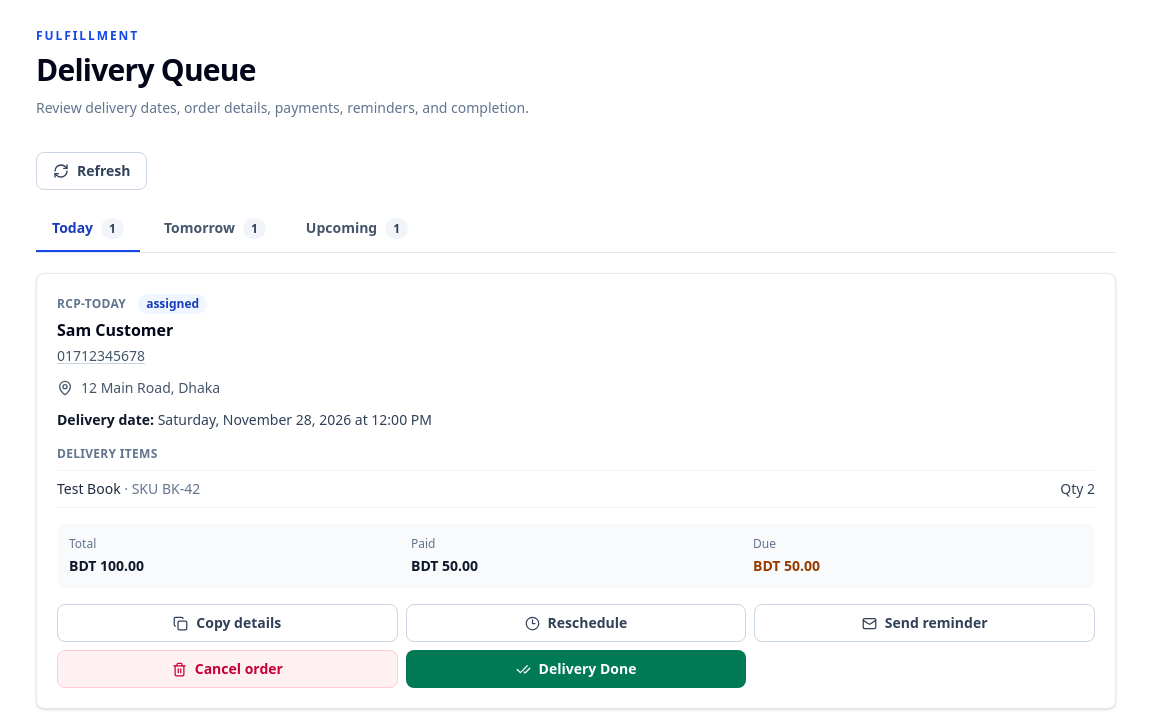
Test: Admin Delivery workflow › previews and sends reminder through email-only action, and closes on Escape
Expected: the text "RCP-TODAY" is shown, [57,296,126,312]
Click the button "Send reminder": (925, 623) [754,604,1095,642]
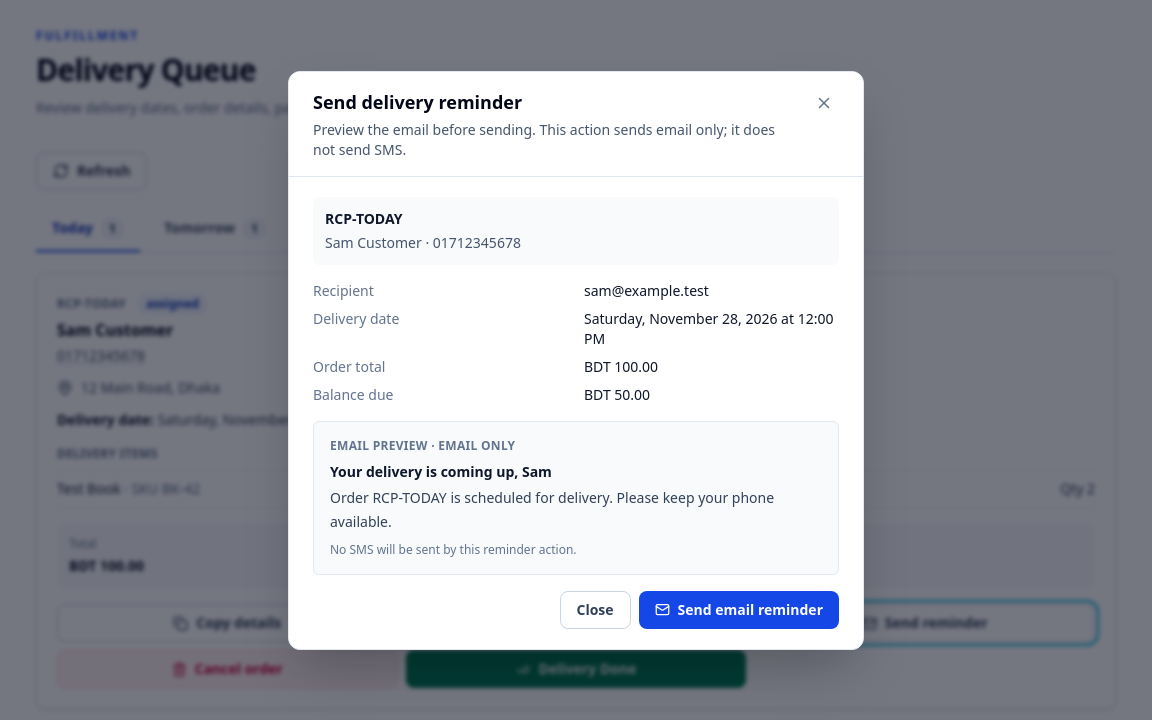
Expected: the text "sam@example.test" is shown, [584,280,709,300]
Expected: the text "Email preview · Email only" is shown, [330,436,515,454]
Press Escape
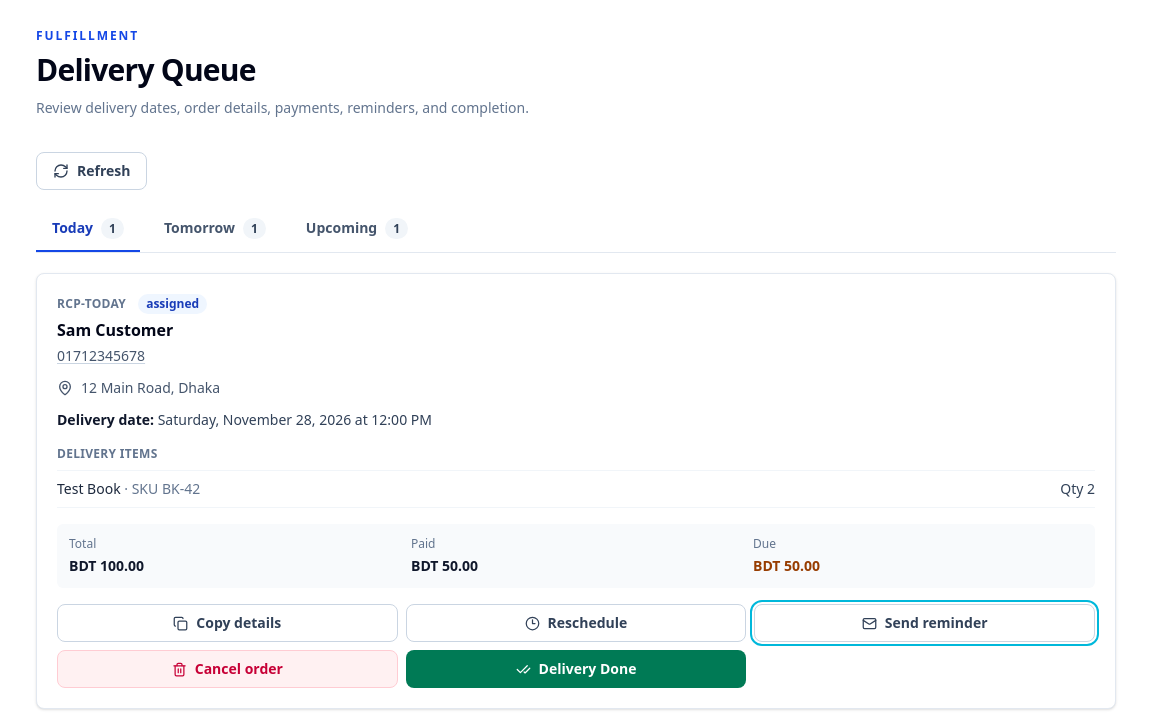
Expected: the dialog is gone
Click the button "Send reminder": (925, 623) [754,604,1095,642]
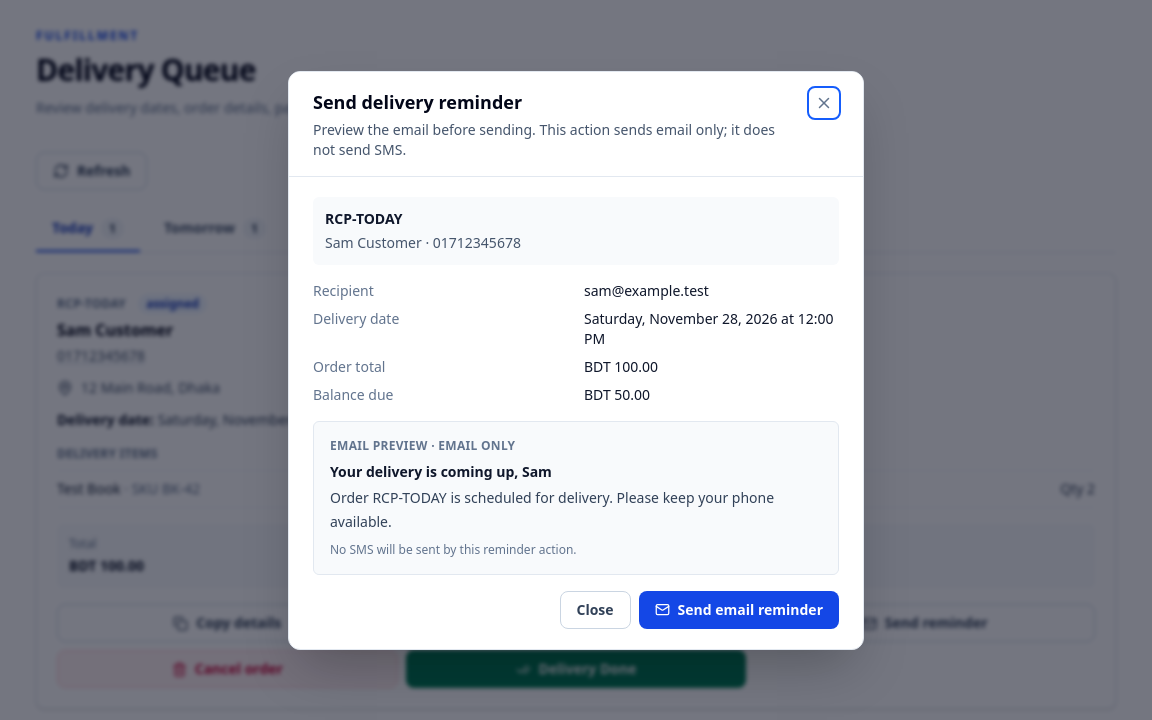
Click the button "Send email reminder": (739, 610) [639,590,839,628]
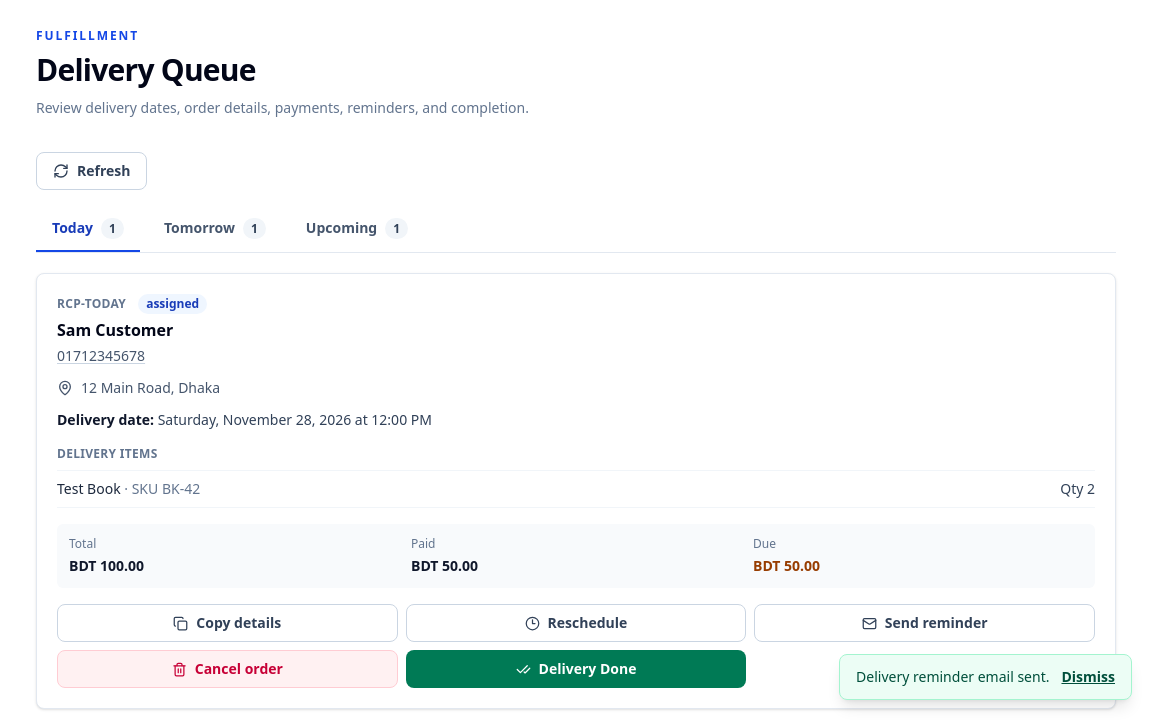
Expected: the message shows "Delivery reminder email sent.", [856,667,1050,686]
